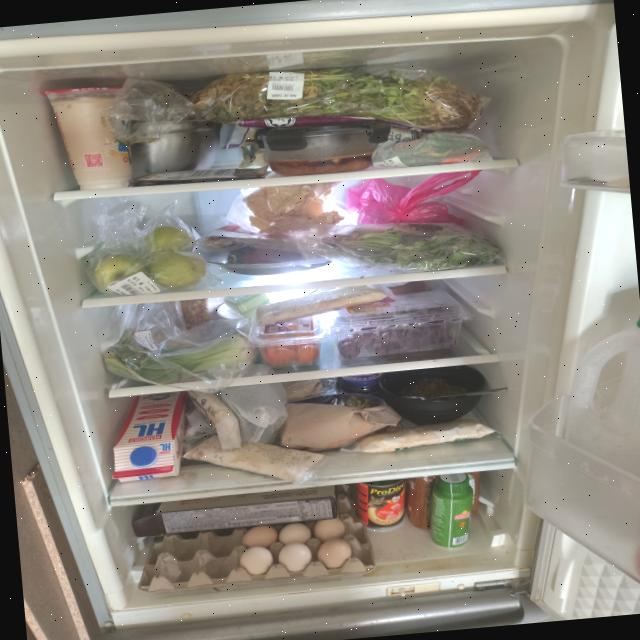apple: (88, 222, 208, 298)
egg: (132, 515, 376, 594)
grape: (333, 306, 458, 360)
leafy_greens: (185, 51, 489, 150), (321, 216, 502, 278)
pakchoy: (100, 320, 255, 389)
tempeh: (181, 425, 327, 492), (254, 284, 388, 326), (354, 416, 495, 454), (186, 386, 242, 451)
unknown_bag: (344, 170, 486, 234), (220, 382, 290, 448)
